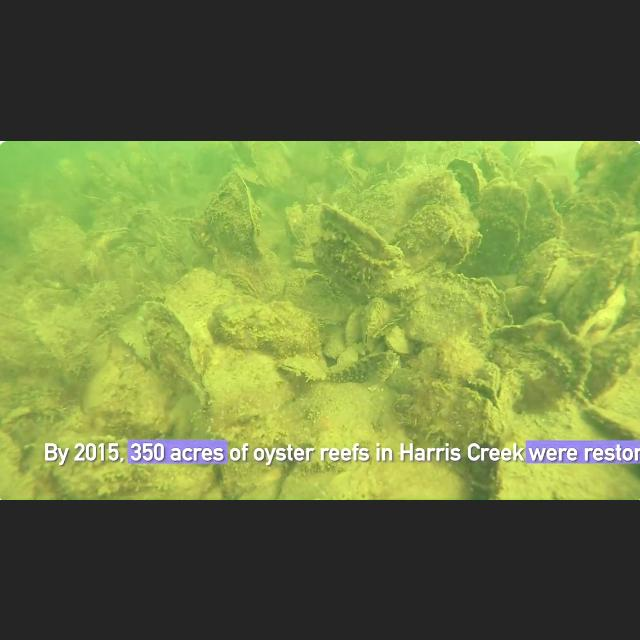Oyster-Closed: (39, 430, 217, 500), (402, 377, 510, 489), (392, 268, 514, 352), (485, 317, 593, 393), (140, 303, 208, 397), (390, 197, 474, 267), (203, 170, 264, 262), (210, 352, 286, 424), (209, 297, 279, 348), (477, 180, 533, 237), (164, 264, 223, 318), (574, 286, 628, 344), (77, 362, 129, 418), (28, 220, 88, 266), (105, 243, 158, 295), (388, 178, 469, 212), (516, 234, 574, 280), (598, 223, 640, 284), (576, 400, 640, 440), (443, 153, 491, 199), (480, 213, 518, 270), (124, 204, 168, 250), (497, 278, 541, 316), (152, 233, 188, 271), (86, 334, 114, 372), (382, 327, 412, 357), (346, 304, 368, 344), (322, 328, 348, 360), (64, 347, 84, 383)
Oyster-Open: (310, 206, 406, 296), (568, 140, 640, 204), (532, 256, 578, 308), (357, 291, 395, 353), (83, 219, 137, 251), (280, 351, 334, 383), (260, 432, 306, 463), (221, 269, 261, 301), (2, 403, 36, 431)
